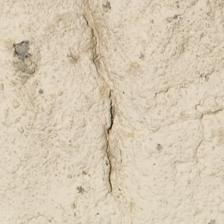Crack: (99, 87, 125, 193)
